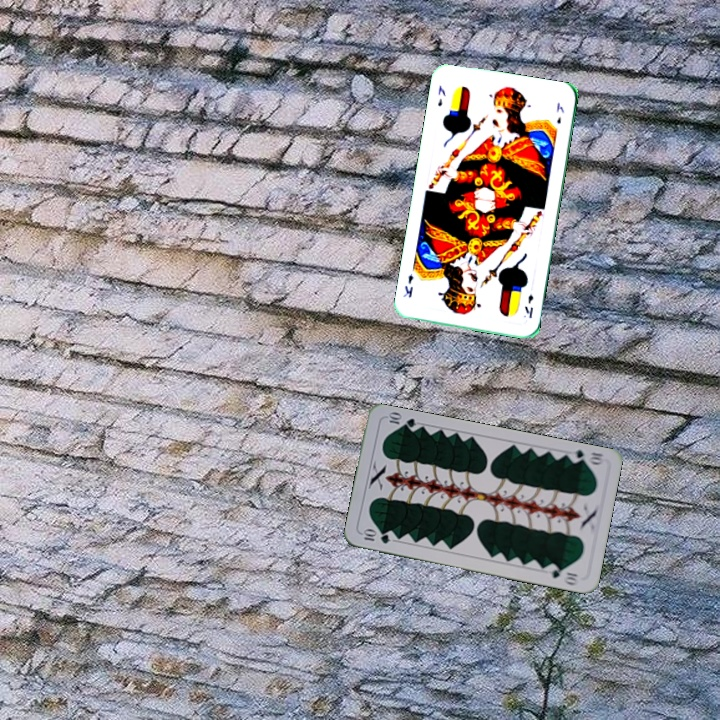EK: (521, 290, 536, 321), (434, 82, 448, 109)
G10: (565, 446, 607, 468), (358, 526, 393, 546)
